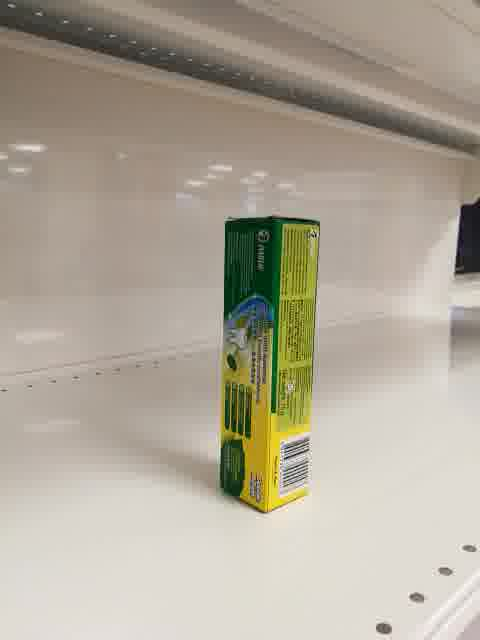toothpaste: (220, 216, 321, 515)
